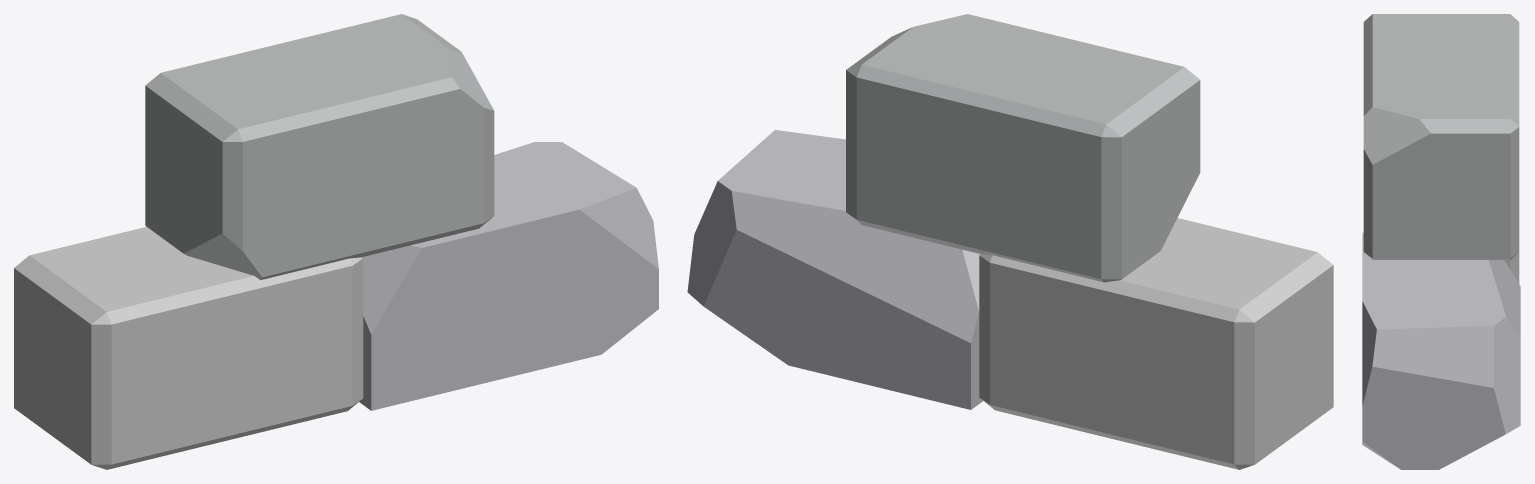
File: Rock_Blocks_m_01.fbx
The picture shows the model from 3 angles, left to right: view 1: azimuth 30°, elevation 25°; view 2: azimuth 150°, elevation 25°; view 3: azimuth 270°, elevation 25°; orthographic projection. The views are drawn at different scales.
Visible parts, largest first — view 1: Rock_Blocks_m_01; view 2: Rock_Blocks_m_01; view 3: Rock_Blocks_m_01.
Boxes of the visible parts, x1,y1,x2,y2 form: Rock_Blocks_m_01: (14,14,658,469); Rock_Blocks_m_01: (687,14,1333,469); Rock_Blocks_m_01: (1362,14,1520,469).
Bounding box in the file's own units: 234 × 123 × 64.
